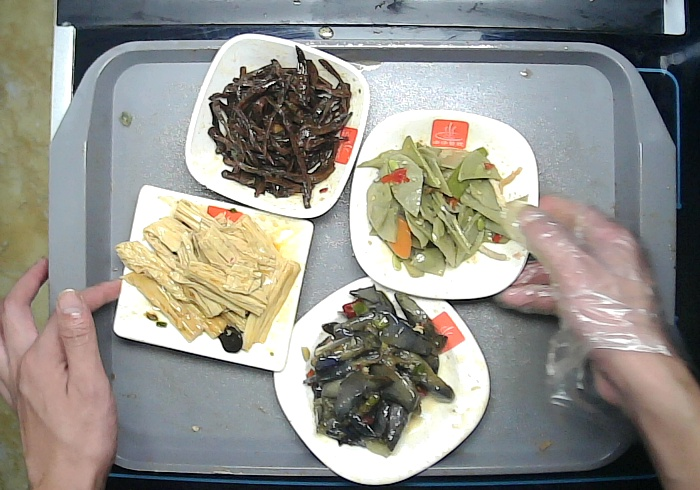SHKJ-Bai_Se_Cai_Die: (350, 109, 540, 300)
SHKJ-Bai_Se_Si_Fang_Cai_Die: (271, 274, 491, 486)
SHKJ-Bai_Se_Xiao_Fang_Die: (183, 34, 370, 219)
SHKJ-Si_Fang_Min: (112, 184, 315, 373)
